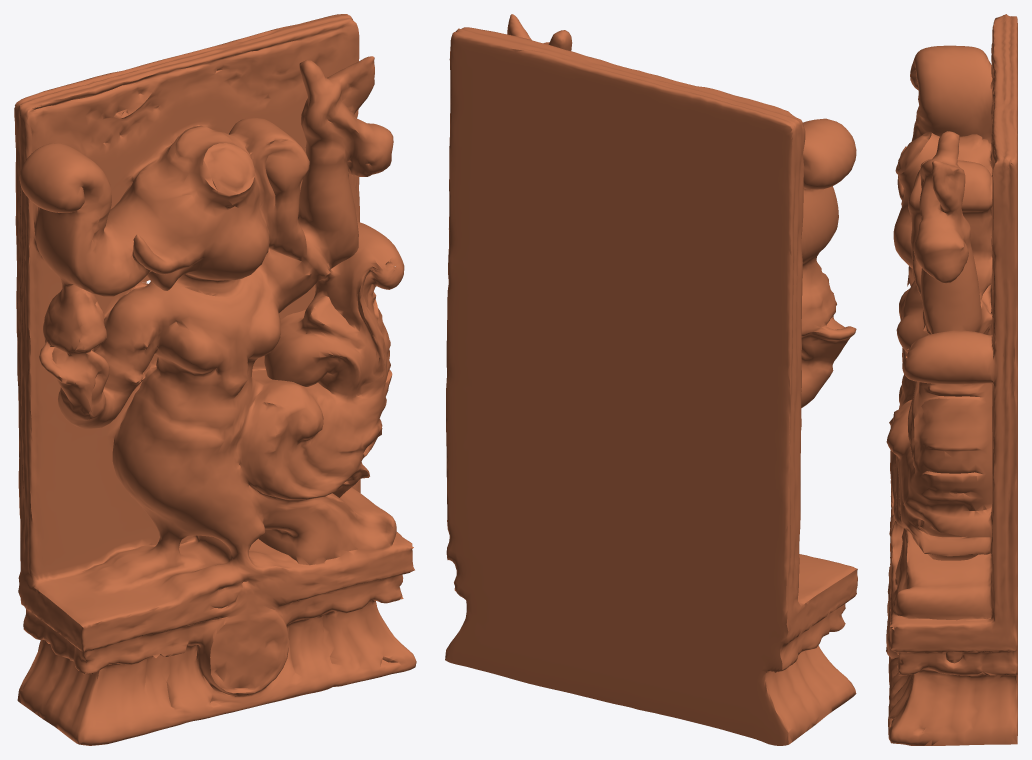
File: ganesha.glb
3 renders of one model, left to right at view 1: azimuth 30°, elevation 25°; view 2: azimuth 150°, elevation 25°; view 3: azimuth 270°, elevation 25°, orthographic. The views are drawn at different scales.
Parts seen in each view (by area): view 1: ganesha; view 2: ganesha; view 3: ganesha.
Boxes of the visible parts, x1,y1,x2,y2 form: ganesha: (14, 14, 416, 745); ganesha: (445, 14, 857, 745); ganesha: (886, 14, 1017, 745).
Size of the model in its own units: 0.1958 by 0.32 by 0.0651.
